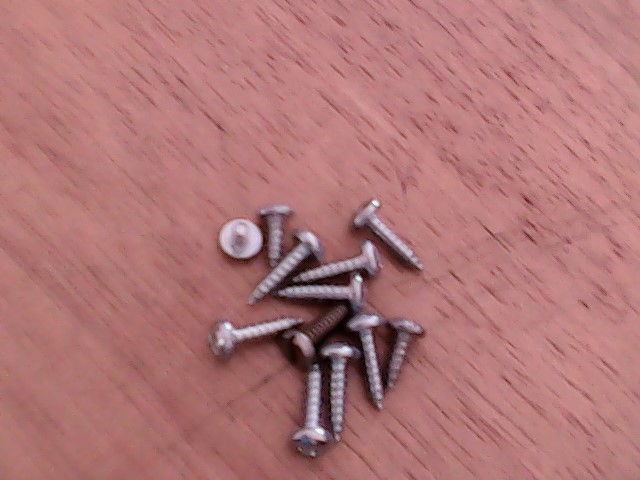Metal: (205, 188, 423, 475)
